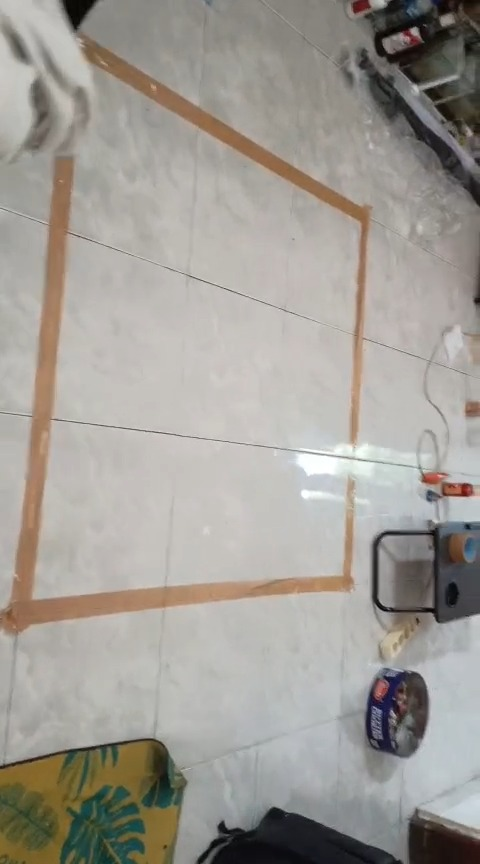floor marking: (0, 158, 355, 632), (84, 36, 369, 448)
